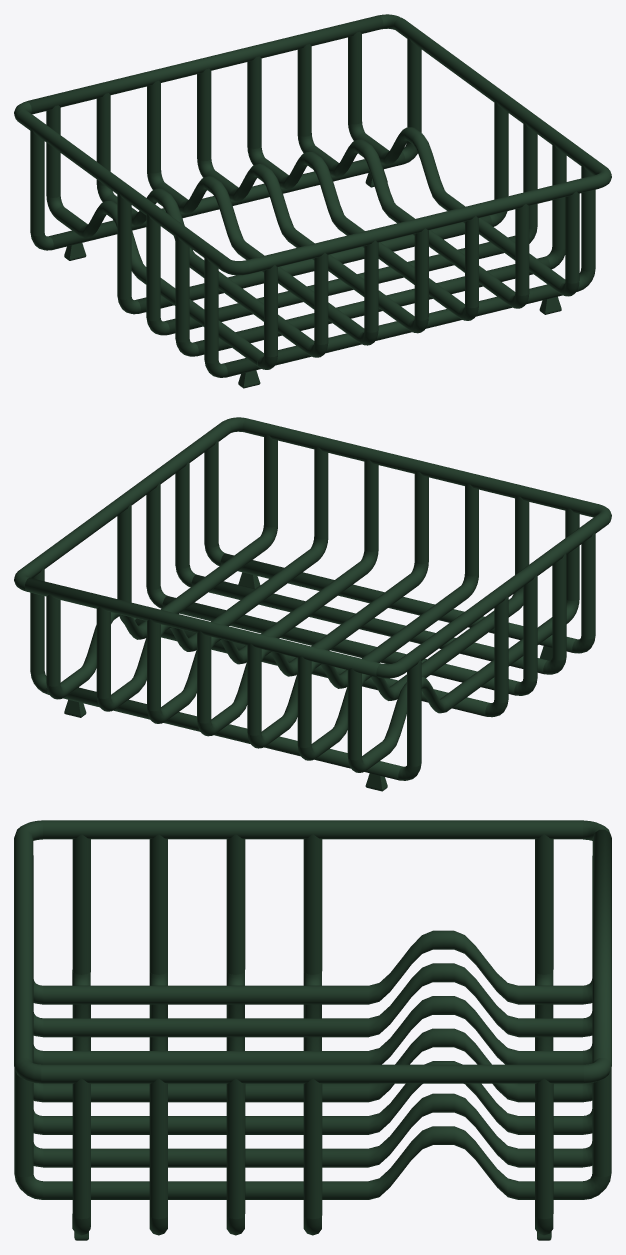
Rendered from Dish Rack.fbx.
3 renders of one model, top to bottom at view 1: azimuth 30°, elevation 25°; view 2: azimuth 150°, elevation 25°; view 3: azimuth 270°, elevation 25°, orthographic. The views are drawn at different scales.
Visible parts, largest first — view 1: Cube; view 2: Cube; view 3: Cube.
Boxes of the visible parts, bbox=[...] form: Cube: bbox=[14, 14, 611, 388]; Cube: bbox=[14, 417, 611, 791]; Cube: bbox=[14, 820, 611, 1240].
Bounding box in the file's own units: 155 × 55.7 × 155.
